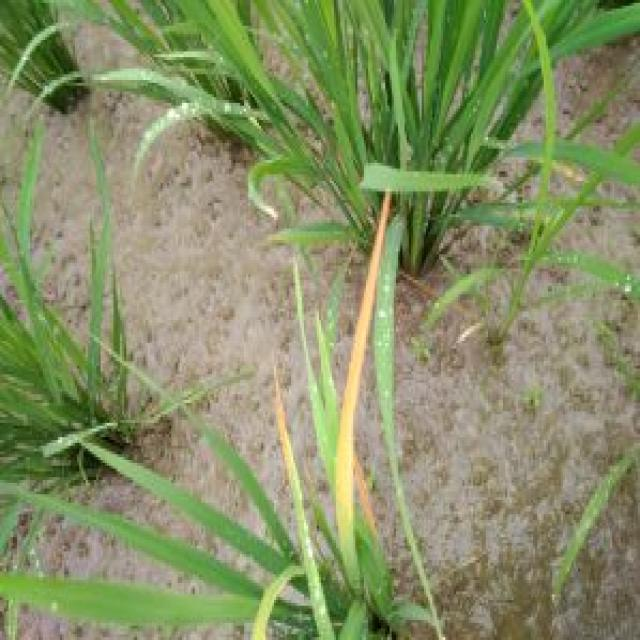Tungro: (327, 172, 400, 556), (248, 335, 316, 546)
